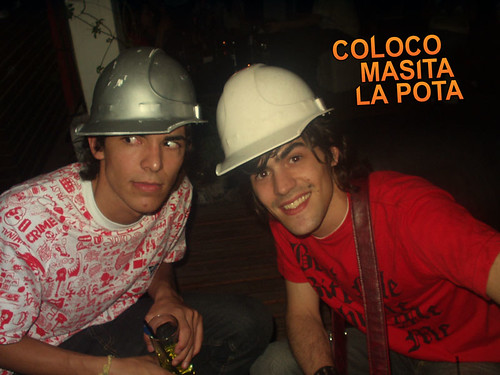helmet: (212, 48, 316, 148), (86, 33, 197, 116)
